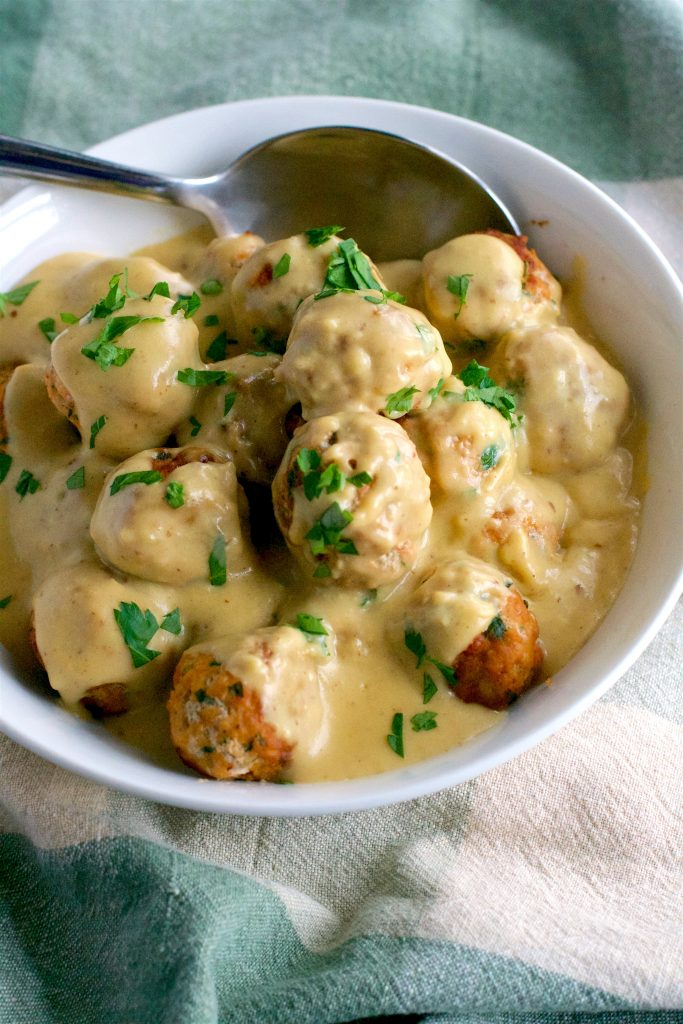meatballs: (20, 253, 595, 782)
